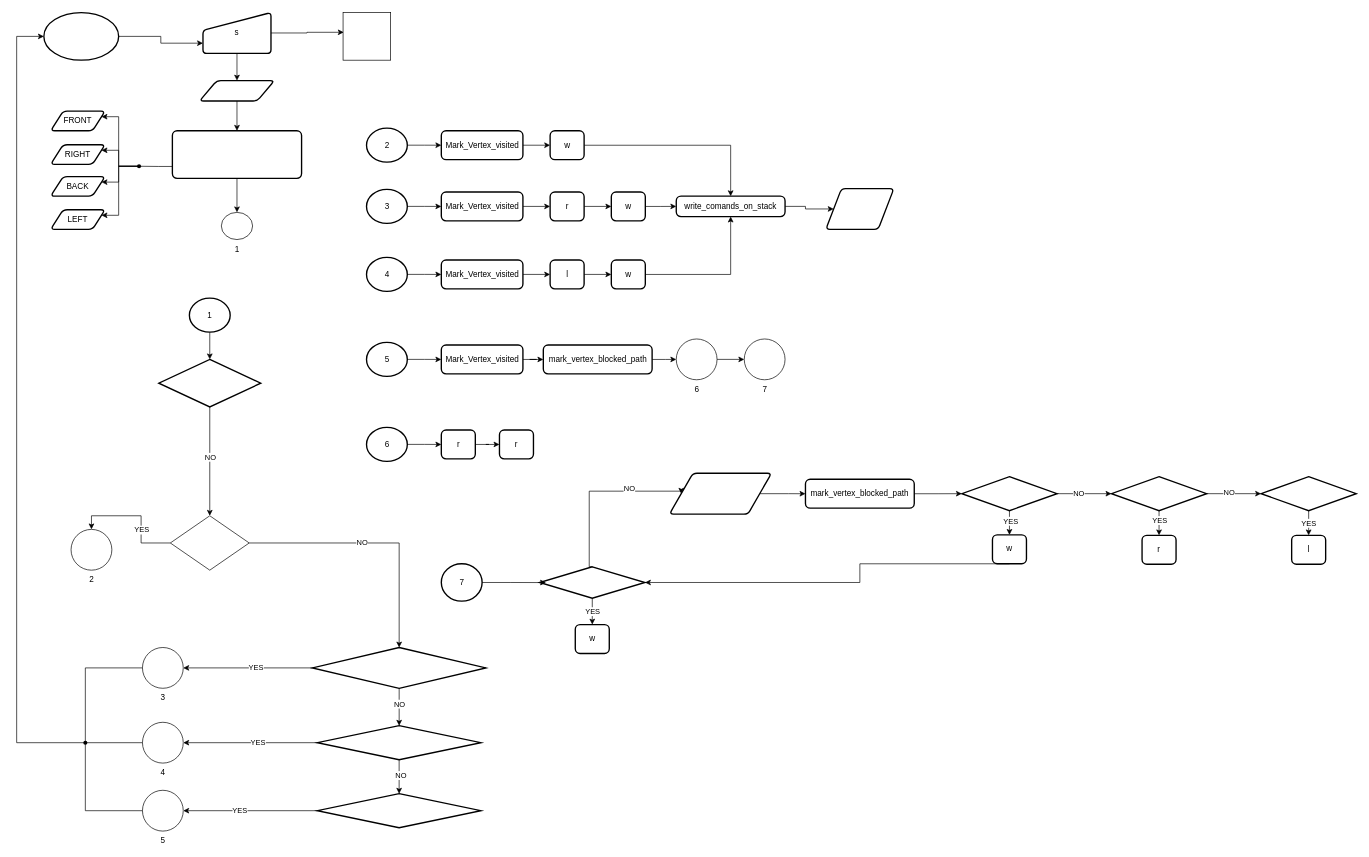
Some shapes in this 1369 by 857 pixel diagram are drawn without their labels. The shapes that lost their labels are listed below. From the top down, each one's centre as x and y in pixels, then its label:
(81,36): start_movement
(366,36): fflush(stdin)
(237,90): response
(236,154): stdinMask(response)
(859,209): STACK
(209,382): is_on_objective?
(720,493): top = STACK->top
(1009,493): top == W
(1158,493): top == L
(1308,493): top == R
(209,542): FRONT == 1
(592,582): is_stack_empty?
(398,667): RIGHT == 1
(398,742): LEFT == 1
(398,810): BACK == 1
